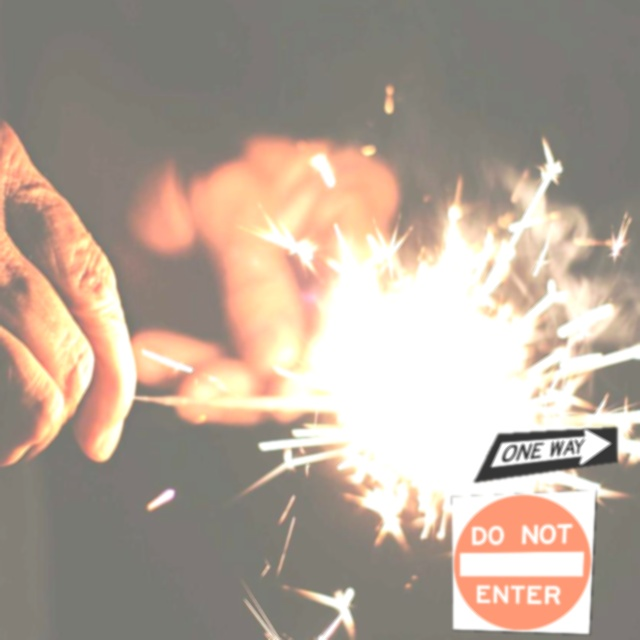DO_NOT_ENTER: (451, 489, 597, 635)
ONE_WAY_ right: (472, 426, 618, 483)
